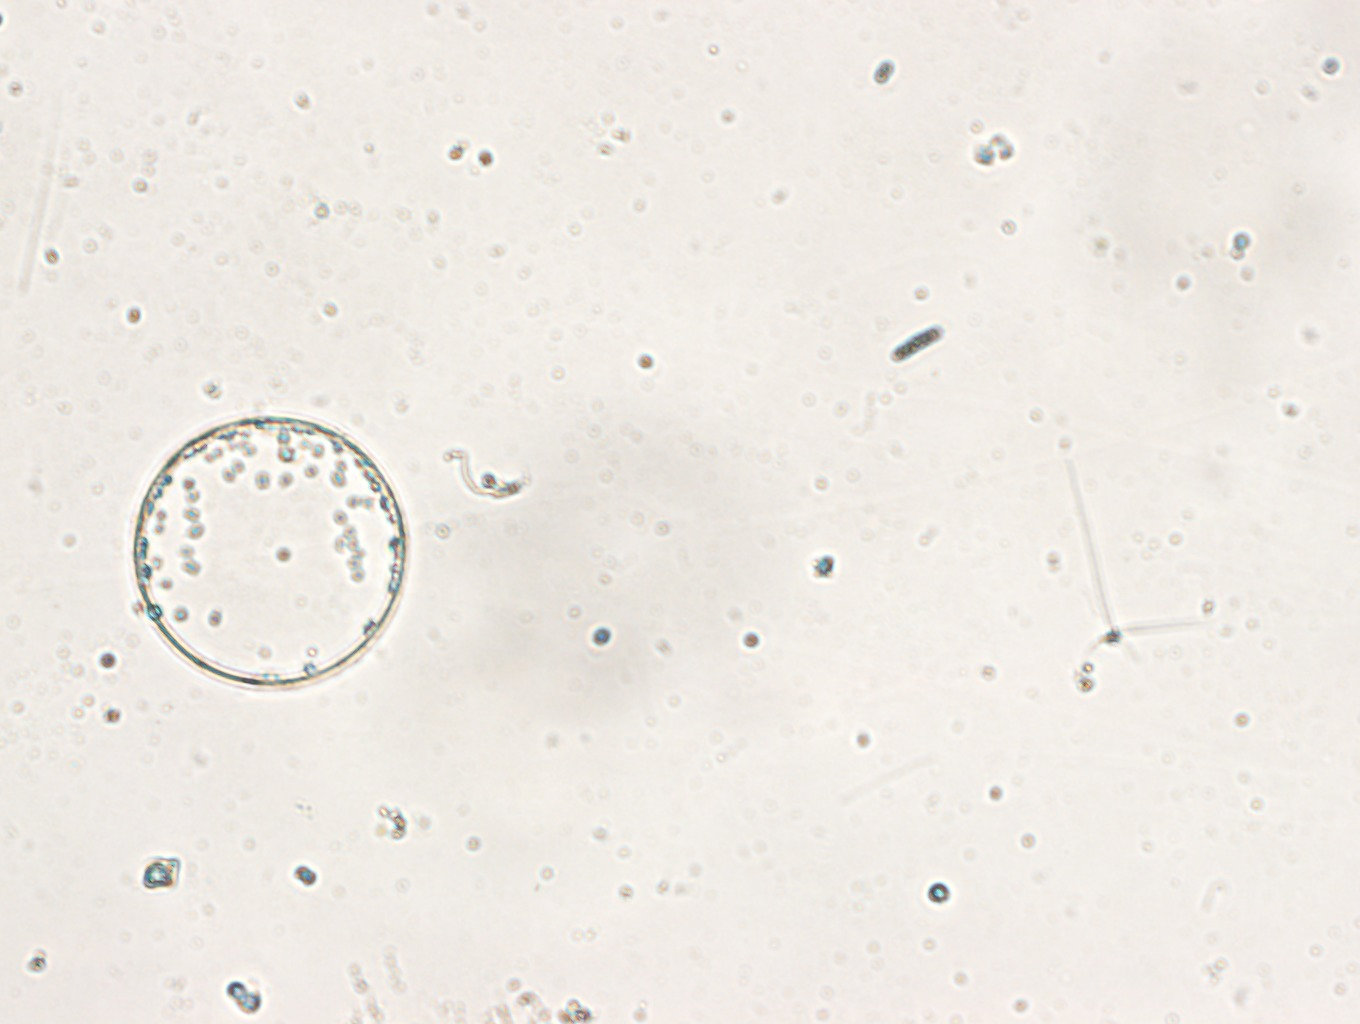coscinodiscus: (134, 415, 406, 686)
